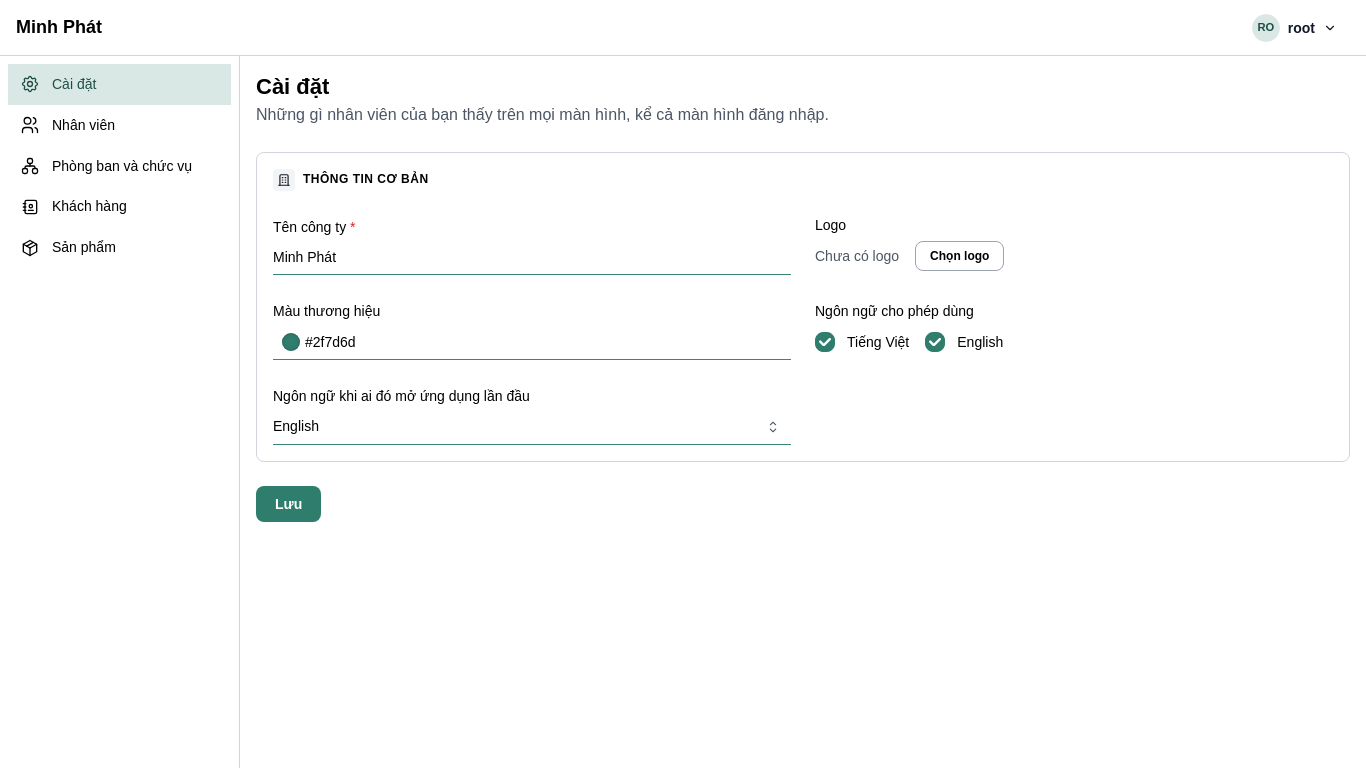
the app › A language the company no longer offers gives way to its default
Click the button "Lưu".
click(289, 504)  # box [256,486,321,522]
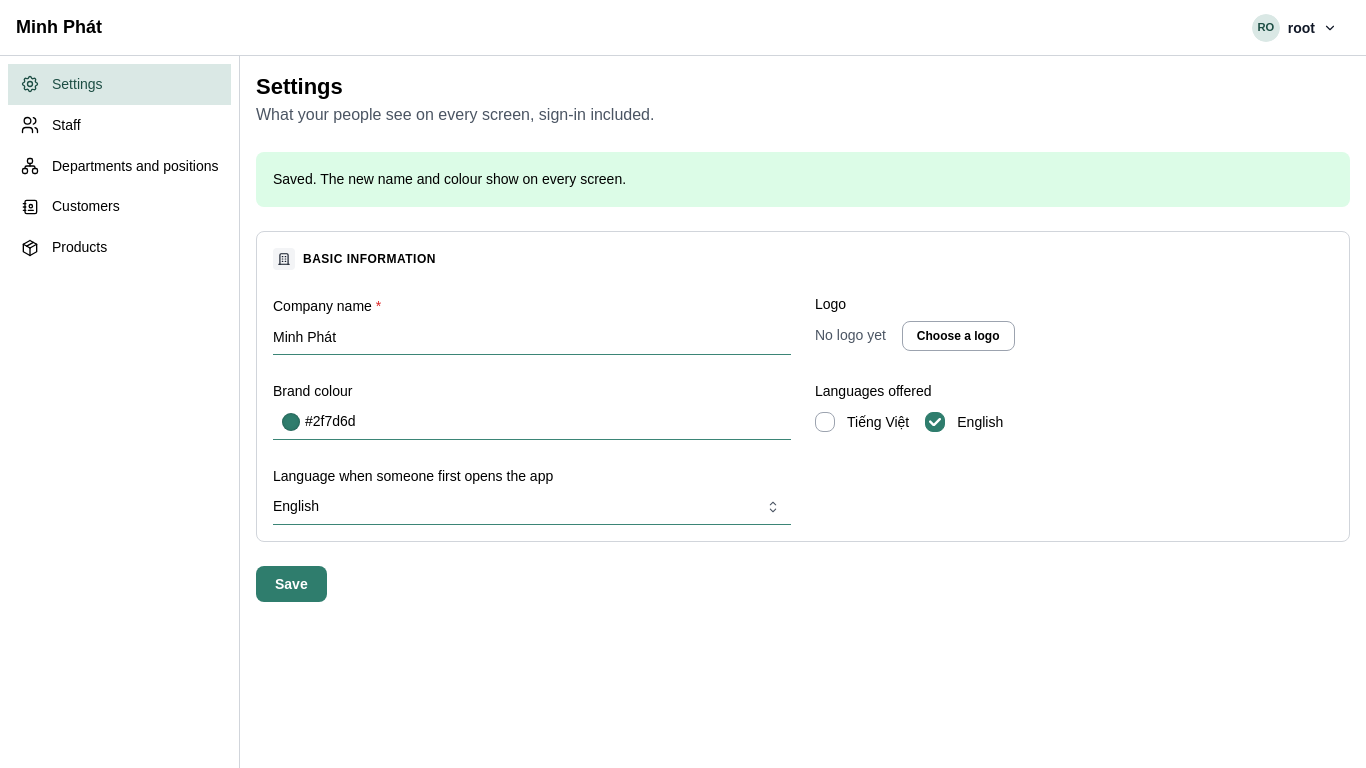
Now the text "Settings" is shown, box [52,76,103,92]
